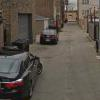Car: (1, 41, 44, 100)
